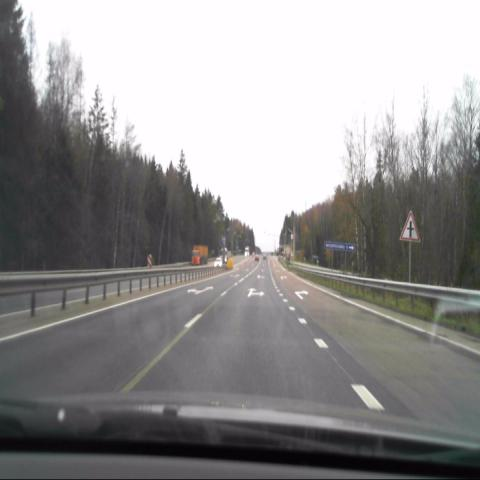2_3: (397, 210, 421, 243)
